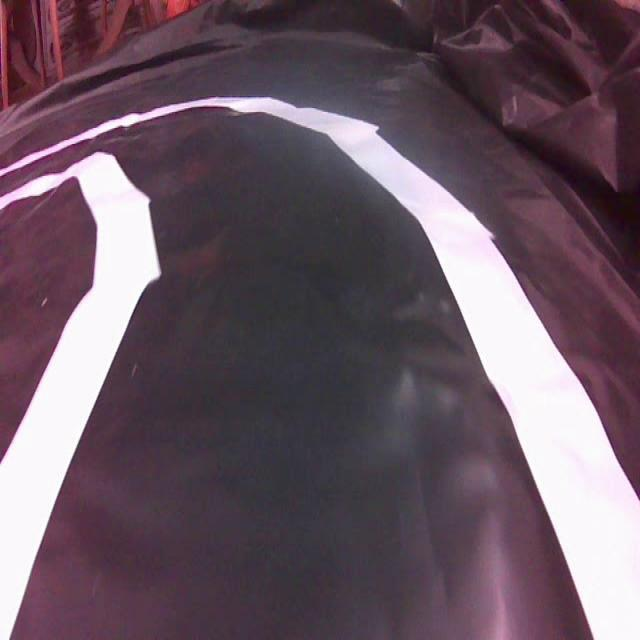LineaCarril: (0, 97, 640, 638), (0, 152, 160, 638)
